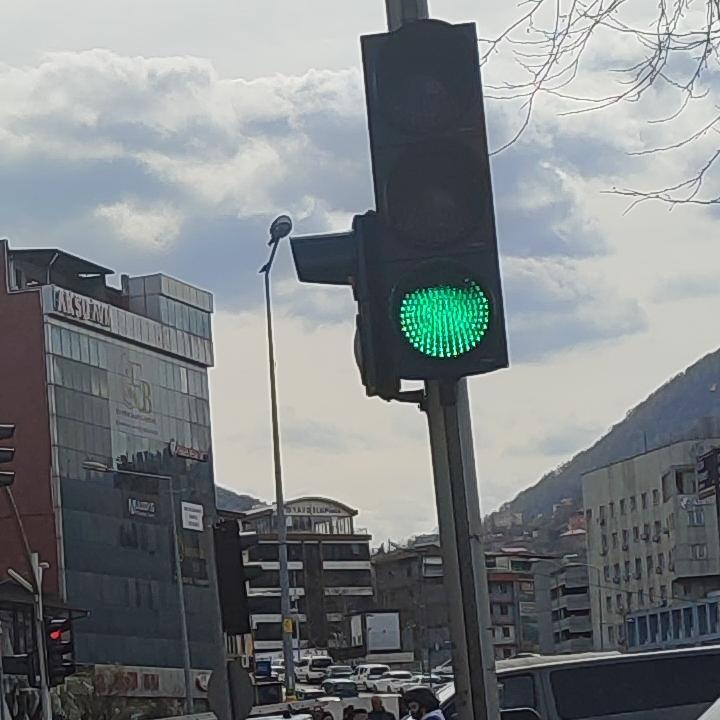green: (356, 26, 509, 391)
